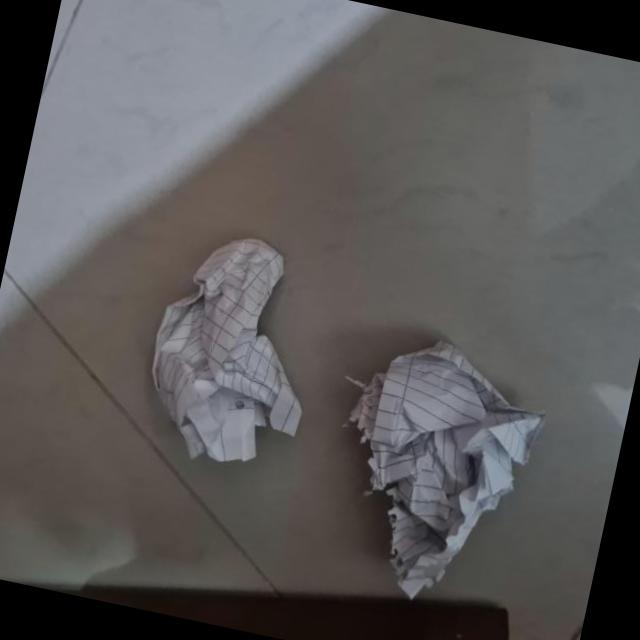cardboard paper: (348, 342, 540, 597), (151, 239, 299, 461)
